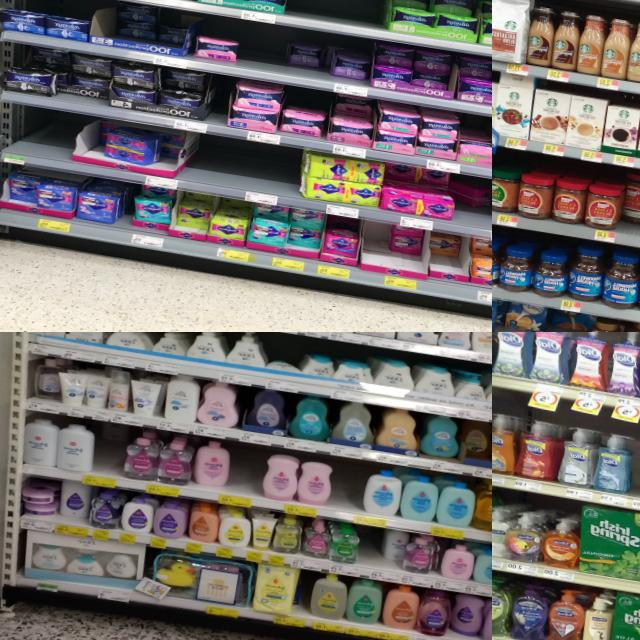100% O.O.S: (224, 443, 266, 508), (329, 459, 366, 524), (90, 437, 124, 488), (355, 529, 381, 579), (627, 421, 640, 509)
100- O.O.S: (196, 134, 300, 208), (3, 103, 79, 172), (285, 0, 385, 39), (234, 20, 290, 83)
